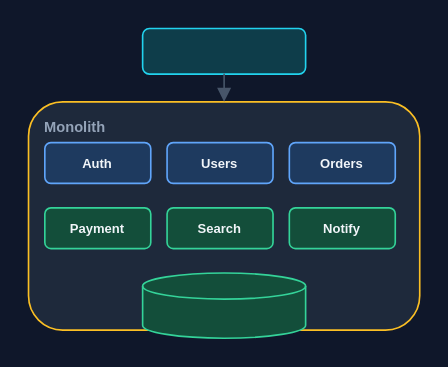
Some shapes in this 448 by 367 pixel diagram are drawn without their labels. Each missing label, with the centre of its shape:
"Client" belongs at point 223,50.
"Single DB" belongs at point 223,304.
